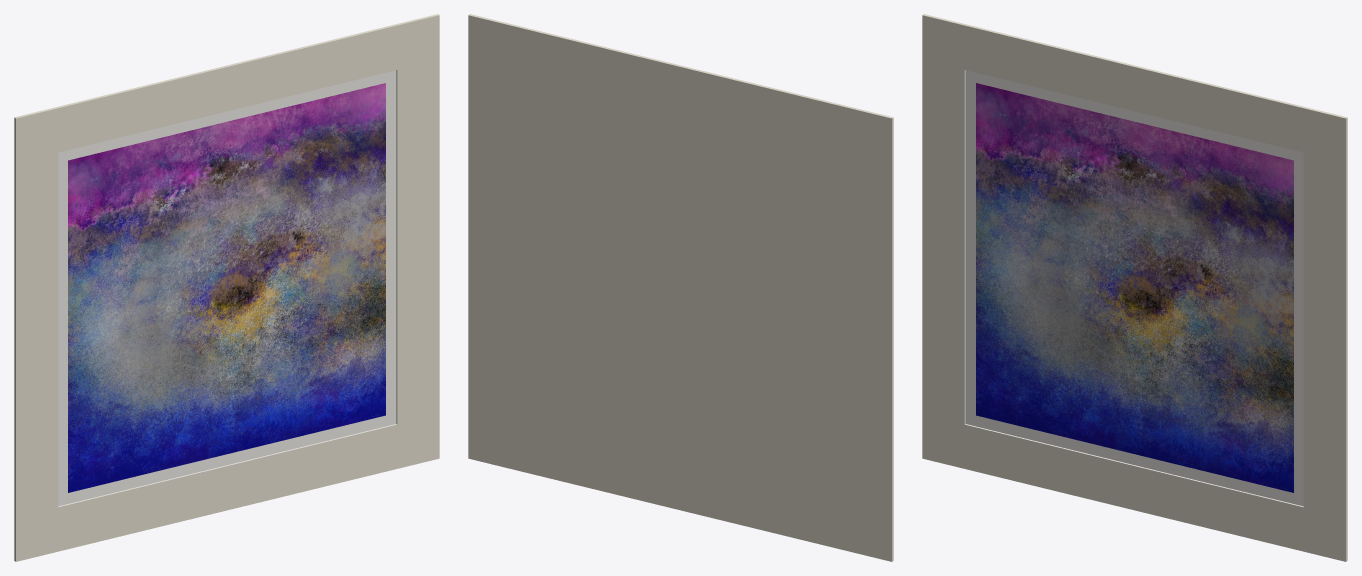
The model's file is va286_moyen_passe-partout.glb.
3 renders of one model, left to right at view 1: azimuth 30°, elevation 25°; view 2: azimuth 150°, elevation 25°; view 3: azimuth 330°, elevation 25°, orthographic.
Visible parts, largest first — view 1: va286_moyen_passe-partout; view 2: va286_moyen_passe-partout; view 3: va286_moyen_passe-partout.
Part boxes in pixels (box(x1,y1,x2,y2)): va286_moyen_passe-partout: box(14, 14, 439, 561); va286_moyen_passe-partout: box(468, 14, 893, 561); va286_moyen_passe-partout: box(922, 14, 1347, 561).
Size of the model in its own units: 0.8 by 0.8 by 0.0055.
Materials: 4 (1 with a texture image).
